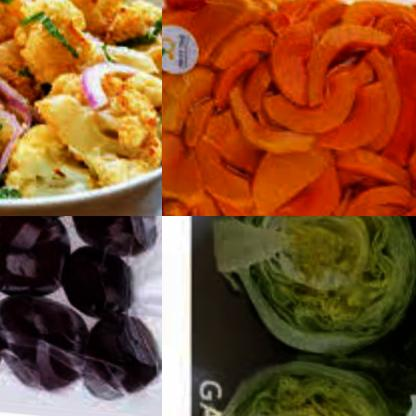beet: (0, 275, 94, 392), (85, 309, 162, 407), (0, 216, 77, 306), (62, 241, 141, 314), (69, 216, 162, 260)
cayliflower: (0, 0, 162, 181)
pumpkin: (162, 0, 416, 216)
salad: (220, 216, 416, 367), (208, 331, 416, 416)
